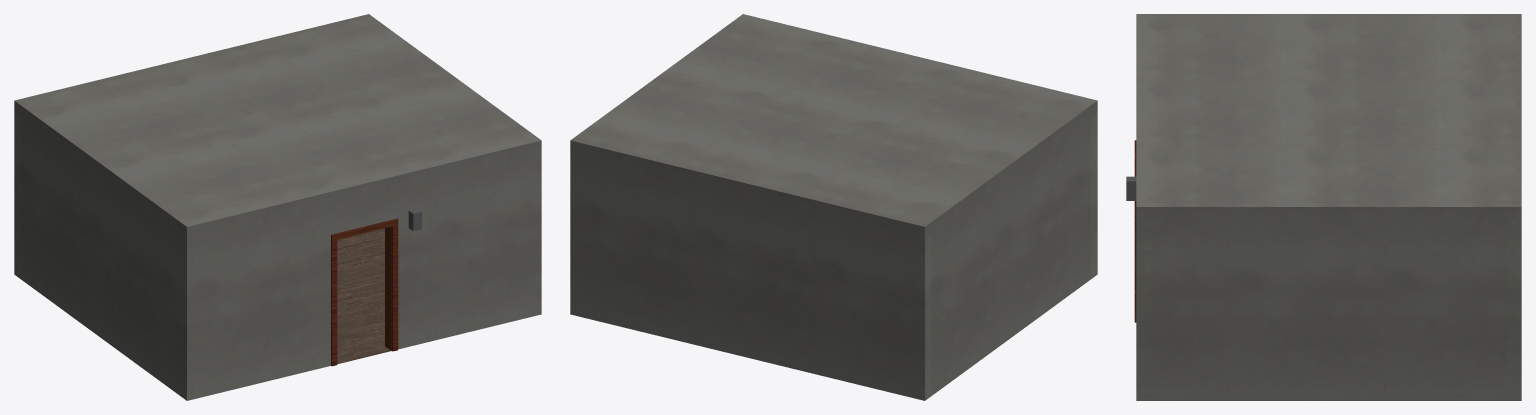
File: safe_house.glb
The picture shows the model from 3 angles, left to right: view 1: azimuth 30°, elevation 25°; view 2: azimuth 150°, elevation 25°; view 3: azimuth 270°, elevation 25°; orthographic projection. The views are drawn at different scales.
Visible parts, largest first — view 1: safe_house_SH_Outside, safe_house_SH_Floor, safe_house_SH_Trim, safe_house_SH_Wall; view 2: safe_house_SH_Outside, safe_house_SH_Wall; view 3: safe_house_SH_Outside, safe_house_SH_Wall, safe_house_SH_Trim.
Part boxes in pixels (x1,y1,x2,y2): safe_house_SH_Outside: (14, 14, 541, 400); safe_house_SH_Floor: (337, 228, 390, 364); safe_house_SH_Trim: (331, 218, 398, 366); safe_house_SH_Wall: (14, 112, 186, 399); safe_house_SH_Outside: (570, 14, 1097, 400); safe_house_SH_Wall: (925, 112, 1097, 400); safe_house_SH_Outside: (1136, 14, 1521, 400); safe_house_SH_Wall: (1136, 220, 1521, 400); safe_house_SH_Trim: (1134, 140, 1136, 322).
Bounding box in the file's own units: 6.4 × 3 × 5.54.
16 materials, 11 textured.
